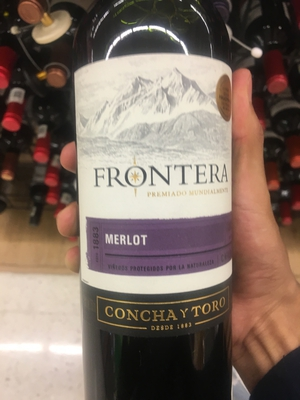frontera merlot: (64, 18, 267, 400)
